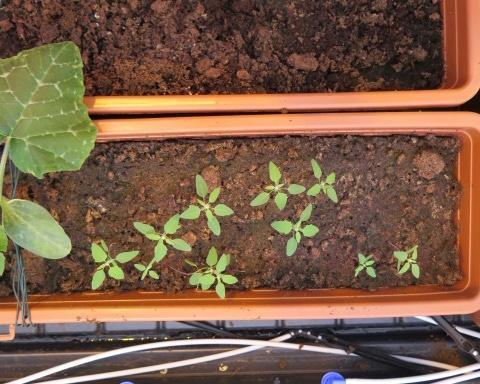weed: (352, 249, 377, 278)
